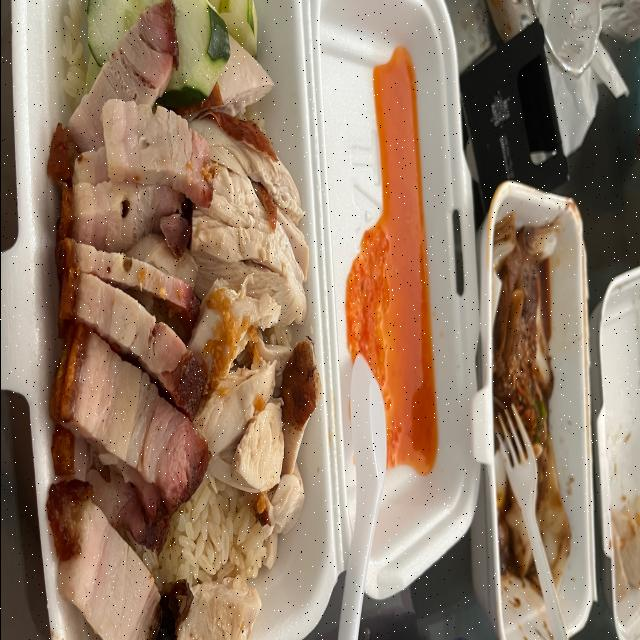Chicken: (185, 42, 320, 532)
Green veg: (157, 0, 229, 107), (86, 0, 156, 65), (224, 0, 256, 56)
Pork: (46, 2, 211, 640)
Rice: (125, 472, 274, 589), (60, 0, 99, 110)
